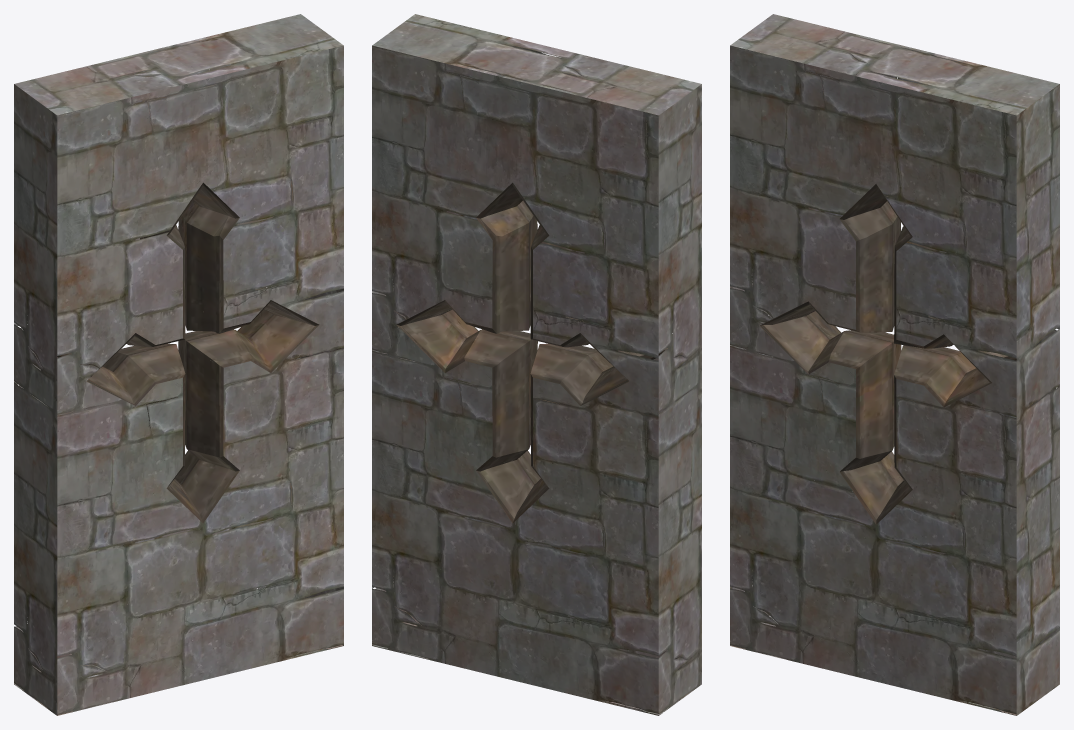
The picture shows the model from 3 angles, left to right: view 1: azimuth 30°, elevation 25°; view 2: azimuth 150°, elevation 25°; view 3: azimuth 330°, elevation 25°; orthographic projection.
Parts seen in each view (by area): view 1: SM_BB_T3_Extended_Wall_Windowframe_Narrow_04_LOD0; view 2: SM_BB_T3_Extended_Wall_Windowframe_Narrow_04_LOD0; view 3: SM_BB_T3_Extended_Wall_Windowframe_Narrow_04_LOD0.
Boxes of the visible parts, box(x1,y1,x2,y2) form: SM_BB_T3_Extended_Wall_Windowframe_Narrow_04_LOD0: box(14, 14, 343, 715); SM_BB_T3_Extended_Wall_Windowframe_Narrow_04_LOD0: box(372, 14, 701, 715); SM_BB_T3_Extended_Wall_Windowframe_Narrow_04_LOD0: box(730, 14, 1059, 715).
Bounding box in the file's own units: 1.5 × 3 × 0.3905.
2 materials, 2 textured.
